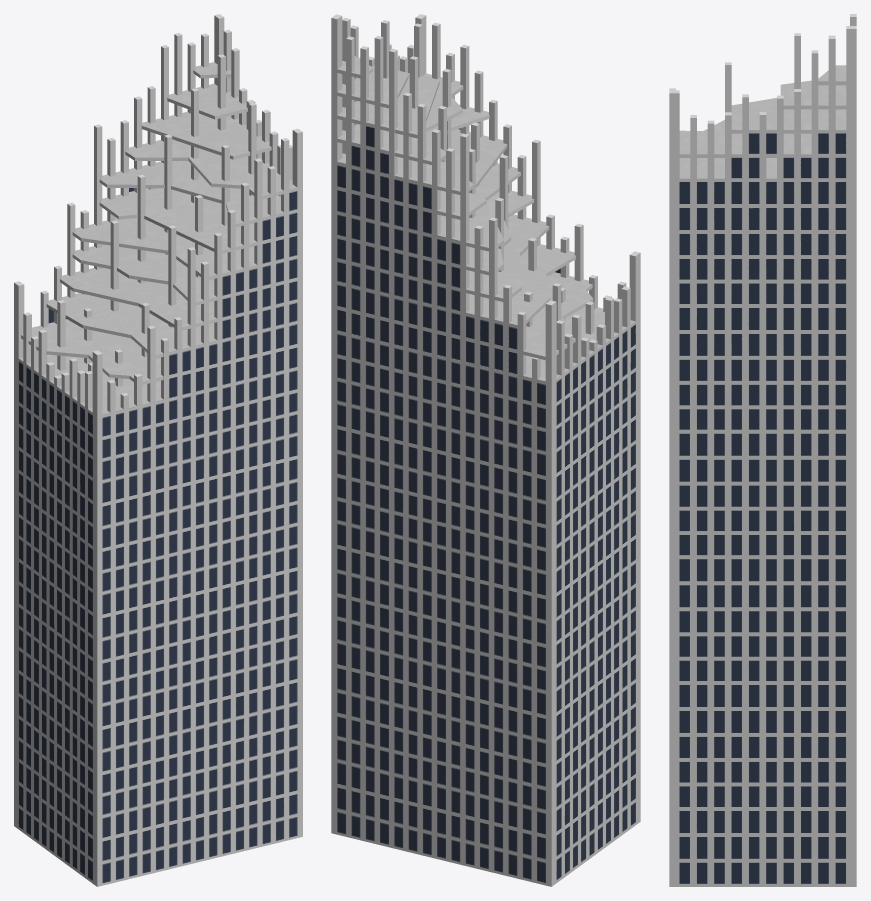
File: Building_DT_H_W3_001.fbx
3 renders of one model, left to right at view 1: azimuth 30°, elevation 25°; view 2: azimuth 150°, elevation 25°; view 3: azimuth 270°, elevation 25°, orthographic. The views are drawn at different scales.
Visible parts, largest first — view 1: Building_DT_H_W3_001; view 2: Building_DT_H_W3_001; view 3: Building_DT_H_W3_001.
Part boxes in pixels (left/top/right/bottom): Building_DT_H_W3_001: left=14, top=14, right=302, bottom=886; Building_DT_H_W3_001: left=331, top=14, right=640, bottom=886; Building_DT_H_W3_001: left=669, top=14, right=856, bottom=886.
Bounding box in the file's own units: 42.49 × 150 × 29.75.
